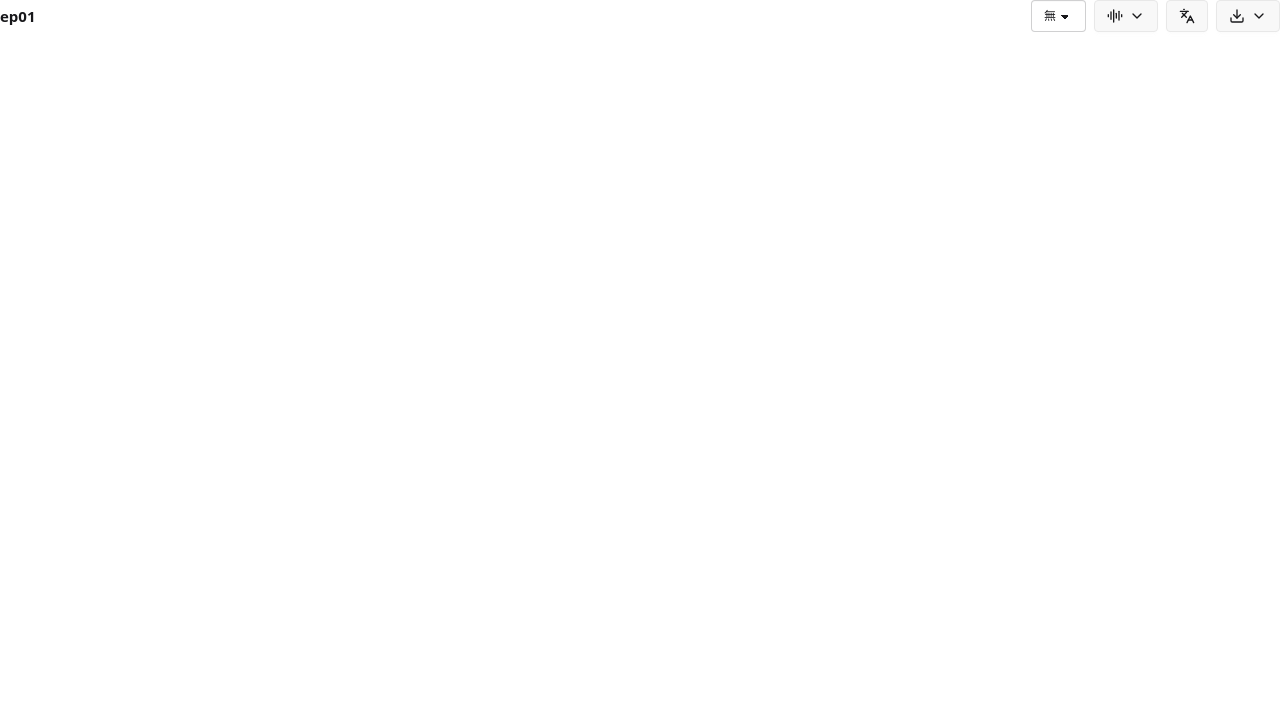
TranslationDialog › names the Primary Language it translates from
Click the button named "翻譯" at (1187, 16), box [1166,0,1208,32]
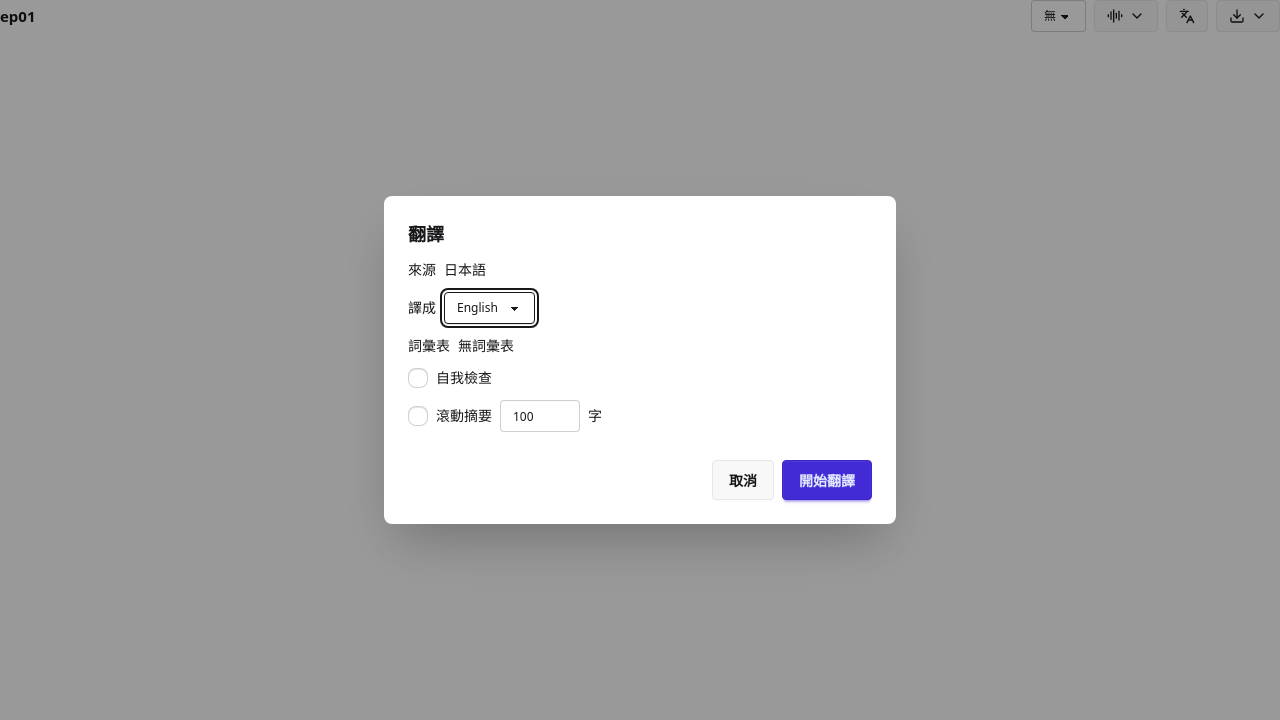
Expected: the text "日本語" is shown, [444,260,486,280]
